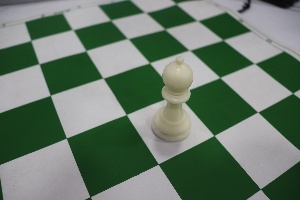white_bishop: (144, 40, 194, 145)
